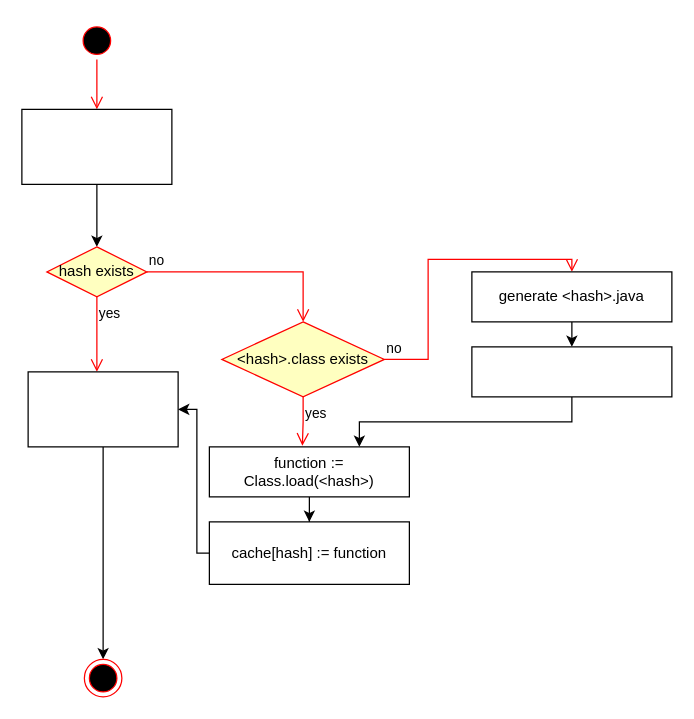
Some shapes in this 694 by 719 pixel diagram are drawn without their labels. The shapes that lost their labels are listed below. From the top down, each one's centre as x and y in pixels, then its label:
At (96,146): "hash:= murmur(template)".
At (571,371): "compile <hash>.java ->".
At (102,409): "return cache[hash]".
